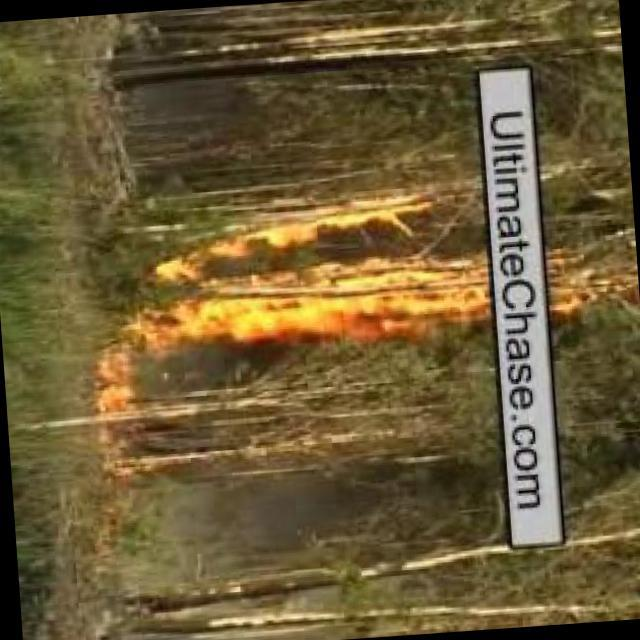Fire: (125, 188, 491, 366), (551, 248, 637, 319), (92, 343, 137, 421)
